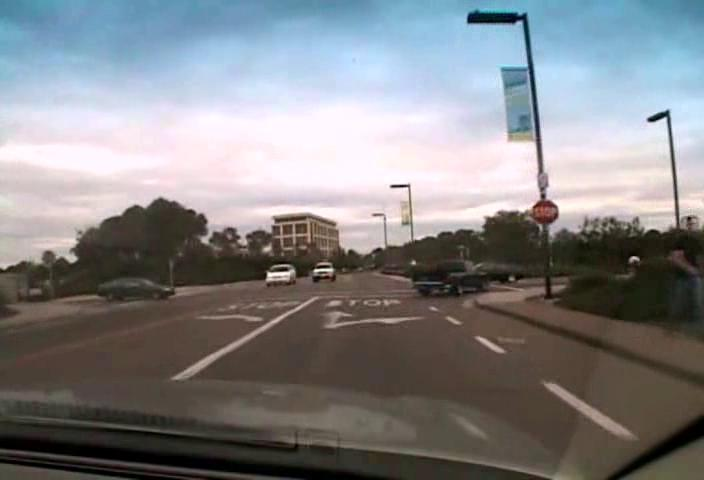stop: (530, 199, 559, 225)
